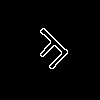F: (25, 25, 78, 78)
